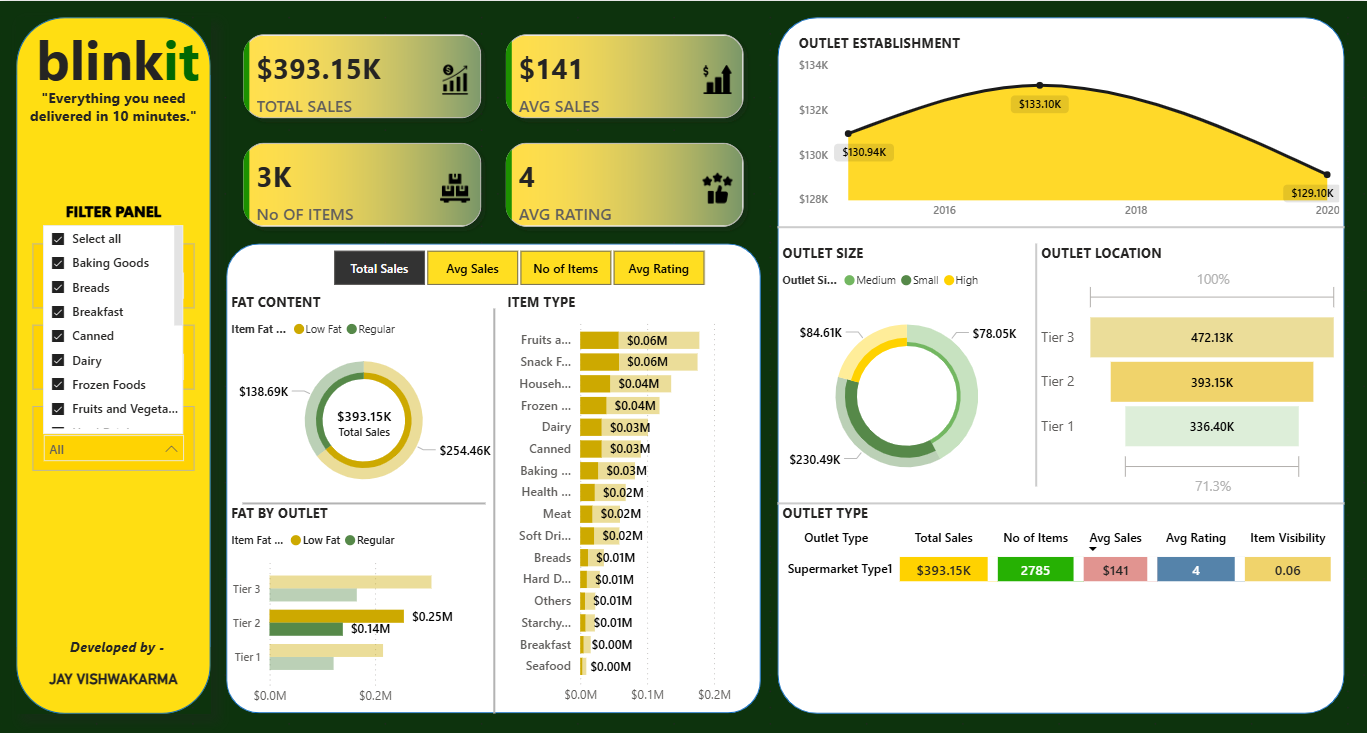

The dashboard page shown, as its layout file describes it:
{"tool":"powerbi","page":{"name":"Page 1","canvas":[1350,726],"ordinal":0},"visuals":[{"type":"shape","box":[16,16,192,688],"z":0},{"type":"textbox","box":[16,16,192,144],"z":1000},{"type":"textbox","box":[16,80,192,128],"z":2000},{"type":"cardVisual","fields":{"Data":["BlinkIT Grocery Data.Total Sales","BlinkIT Grocery Data.Avg Sales","BlinkIT Grocery Data.No of Items","BlinkIT Grocery Data.Avg Rating"]},"box":[224,16,528,224],"z":3000},{"type":"shape","box":[224,240,528,464],"z":4000},{"type":"donutChart","title":"FAT CONTENT","fields":{"Y":["BlinkIT Grocery Data.Total Sales"],"Category":["BlinkIT Grocery Data.Item Fat Content"]},"box":[224,288,272,208],"z":5000},{"type":"slicer","fields":{"Values":["Metrics.Metrics"]},"box":[304,240,416,48],"z":6000},{"type":"cardVisual","fields":{"Data":["BlinkIT Grocery Data.Total Sales"]},"box":[304,384,112,64],"z":7000},{"type":"clusteredBarChart","title":"FAT BY OUTLET","fields":{"Y":["BlinkIT Grocery Data.Total Sales"],"Category":["BlinkIT Grocery Data.Outlet Location Type"],"Series":["BlinkIT Grocery Data.Item Fat Content"]},"box":[224,496,272,208],"z":8000},{"type":"shape","box":[240,480,240,32],"z":9000},{"type":"shape","box":[464,304,48,400],"z":10000},{"type":"barChart","title":"ITEM TYPE","fields":{"Y":["BlinkIT Grocery Data.Total Sales"],"Category":["BlinkIT Grocery Data.Item Type"]},"box":[496,288,256,416],"z":11000},{"type":"shape","box":[768,16,560,688],"z":12000},{"type":"lineChart","title":"OUTLET ESTABLISHMENT","fields":{"Y":["BlinkIT Grocery Data.Total Sales"],"Category":["BlinkIT Grocery Data.Outlet Establishment Year"]},"box":[784,32,544,192],"z":13000},{"type":"donutChart","title":"OUTLET SIZE","fields":{"Y":["BlinkIT Grocery Data.Total Sales"],"Category":["BlinkIT Grocery Data.Outlet Size"]},"box":[768,240,256,256],"z":14000},{"type":"funnel","title":"OUTLET LOCATION","fields":{"Y":["Sum(BlinkIT Grocery Data.Sales)"],"Category":["BlinkIT Grocery Data.Outlet Location Type"]},"box":[1024,240,304,256],"z":15000},{"type":"pivotTable","title":"OUTLET TYPE","fields":{"Rows":["BlinkIT Grocery Data.Outlet Type"],"Values":["BlinkIT Grocery Data.Total Sales","BlinkIT Grocery Data.No of Items","BlinkIT Grocery Data.Avg Sales","BlinkIT Grocery Data.Avg Rating","Avg(BlinkIT Grocery Data.Item Visibility)"]},"box":[768,496,560,192],"z":16000},{"type":"shape","box":[768,208,560,32],"z":17000},{"type":"shape","box":[1008,240,32,240],"z":18000},{"type":"shape","box":[768,464,560,64],"z":19000},{"type":"slicer","fields":{"Values":["BlinkIT Grocery Data.Outlet Location Type"]},"box":[32,240,160,64],"z":20000},{"type":"slicer","fields":{"Values":["BlinkIT Grocery Data.Outlet Size"]},"box":[32,320,160,64],"z":21000},{"type":"slicer","fields":{"Values":["BlinkIT Grocery Data.Item Type"]},"box":[32,400,160,64],"z":22000},{"type":"textbox","box":[32,192,160,32],"z":23000},{"type":"textbox","box":[64,624,112,32],"z":24000},{"type":"textbox","box":[16,656,192,32],"z":25000}]}

Visuals, with their boxes in screenshot pixels (x1, y1, x2, y2), scaled from the page's 1350x726 canvas onto the 1367x733 screenshot:
shape: region(16, 16, 211, 711)
textbox: region(16, 16, 211, 162)
textbox: region(16, 81, 211, 210)
cardVisual - BlinkIT Grocery Data.Total Sales x BlinkIT Grocery Data.Avg Sales: region(227, 16, 761, 242)
shape: region(227, 242, 761, 711)
"FAT CONTENT" donutChart: region(227, 291, 502, 501)
slicer - Metrics.Metrics: region(308, 242, 729, 291)
cardVisual - BlinkIT Grocery Data.Total Sales: region(308, 388, 421, 452)
"FAT BY OUTLET" clusteredBarChart: region(227, 501, 502, 711)
shape: region(243, 485, 486, 517)
shape: region(470, 307, 518, 711)
"ITEM TYPE" barChart: region(502, 291, 761, 711)
shape: region(778, 16, 1345, 711)
"OUTLET ESTABLISHMENT" lineChart: region(794, 32, 1345, 226)
"OUTLET SIZE" donutChart: region(778, 242, 1037, 501)
"OUTLET LOCATION" funnel: region(1037, 242, 1345, 501)
"OUTLET TYPE" pivotTable: region(778, 501, 1345, 695)
shape: region(778, 210, 1345, 242)
shape: region(1021, 242, 1053, 485)
shape: region(778, 468, 1345, 533)
slicer - BlinkIT Grocery Data.Outlet Location Type: region(32, 242, 194, 307)
slicer - BlinkIT Grocery Data.Outlet Size: region(32, 323, 194, 388)
slicer - BlinkIT Grocery Data.Item Type: region(32, 404, 194, 468)
textbox: region(32, 194, 194, 226)
textbox: region(65, 630, 178, 662)
textbox: region(16, 662, 211, 695)
